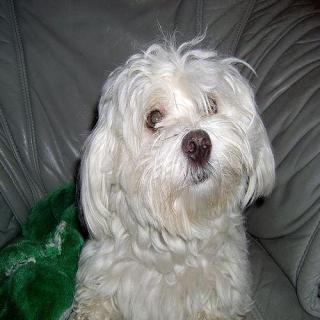dog: (82, 40, 288, 259)
nose: (179, 128, 220, 167)
